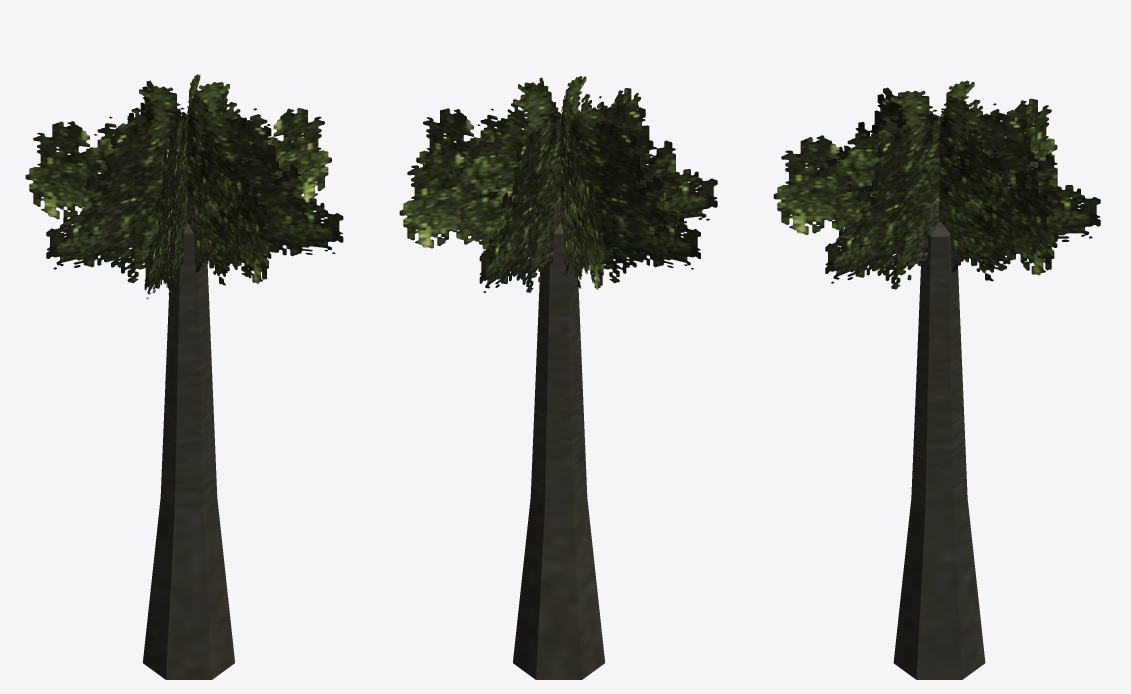
The model's file is tree26.glb.
The picture shows the model from 3 angles, left to right: view 1: azimuth 30°, elevation 25°; view 2: azimuth 150°, elevation 25°; view 3: azimuth 270°, elevation 25°; orthographic projection.
Parts seen in each view (by area): view 1: tree26; view 2: tree26; view 3: tree26.
Part boxes in pixels (left/top/right/bottom): tree26: left=25, top=74, right=343, bottom=679; tree26: left=399, top=76, right=717, bottom=679; tree26: left=773, top=80, right=1100, bottom=679.
Bounding box in the file's own units: 7.8 × 13.9 × 7.8.
1 material, 1 textured.
